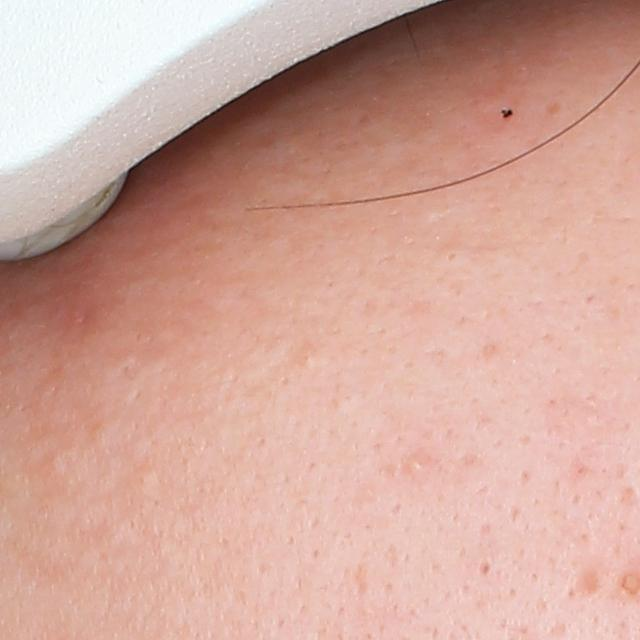atrophic_scar: (575, 565, 606, 601)
comedo: (127, 461, 157, 494), (472, 553, 499, 581), (404, 452, 426, 478), (439, 245, 465, 264), (296, 348, 318, 365)
